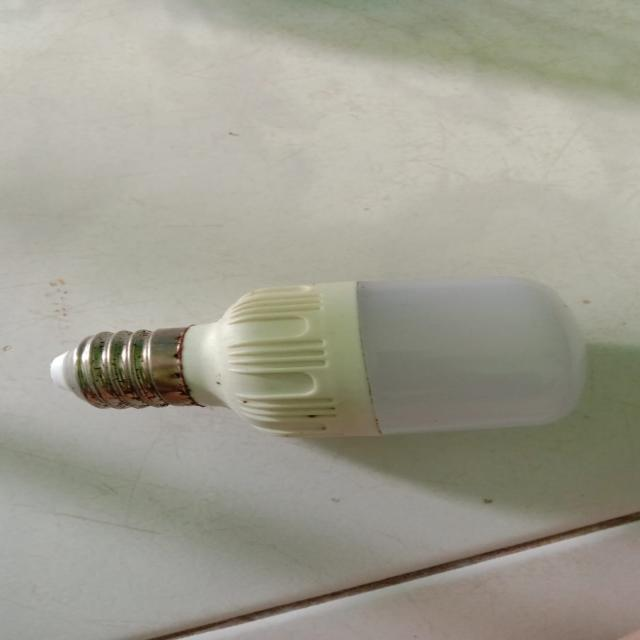lampu: (15, 194, 624, 531)
